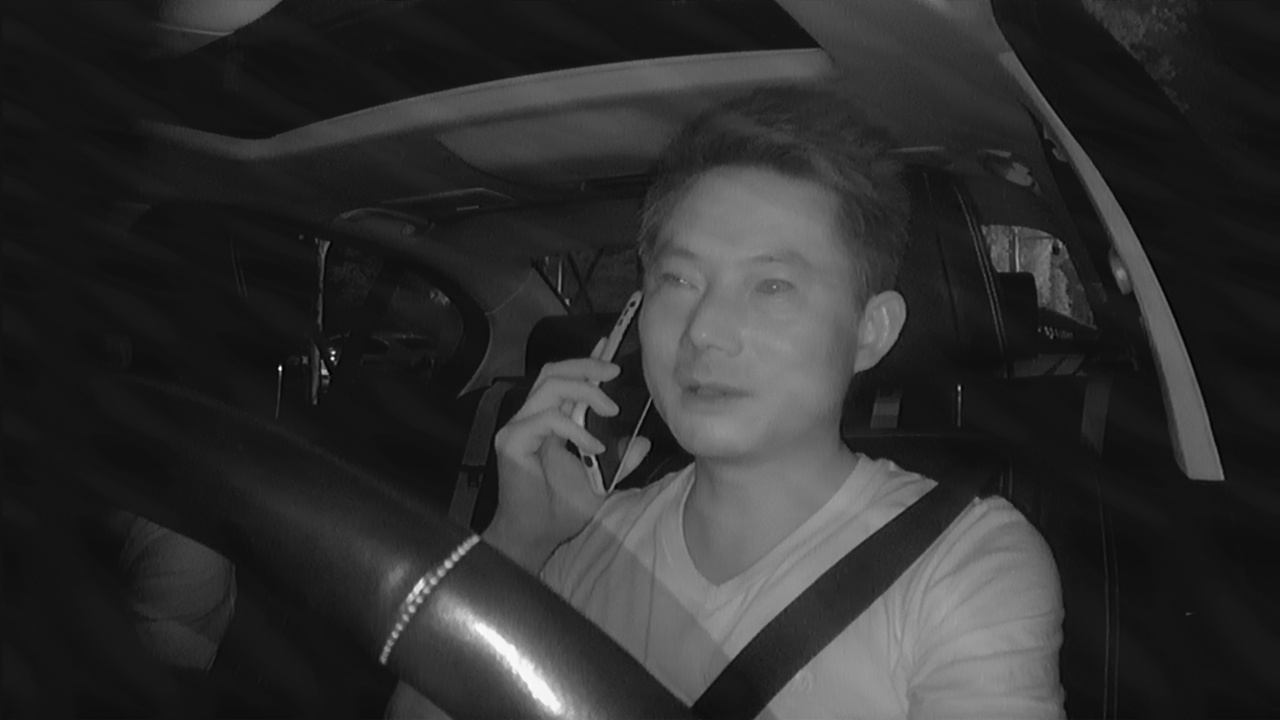hand: (486, 342, 663, 536)
